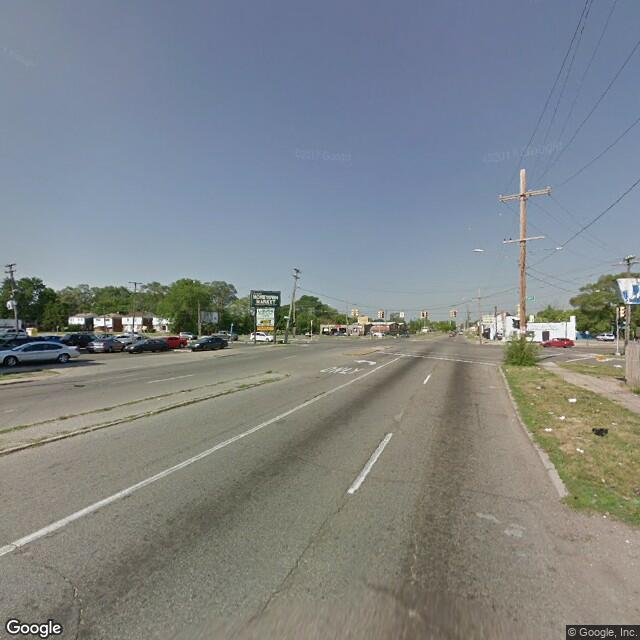litter: (590, 424, 613, 441), (571, 444, 589, 456), (543, 422, 556, 438), (563, 395, 579, 405), (597, 476, 611, 487), (533, 382, 548, 392), (556, 412, 569, 423)
